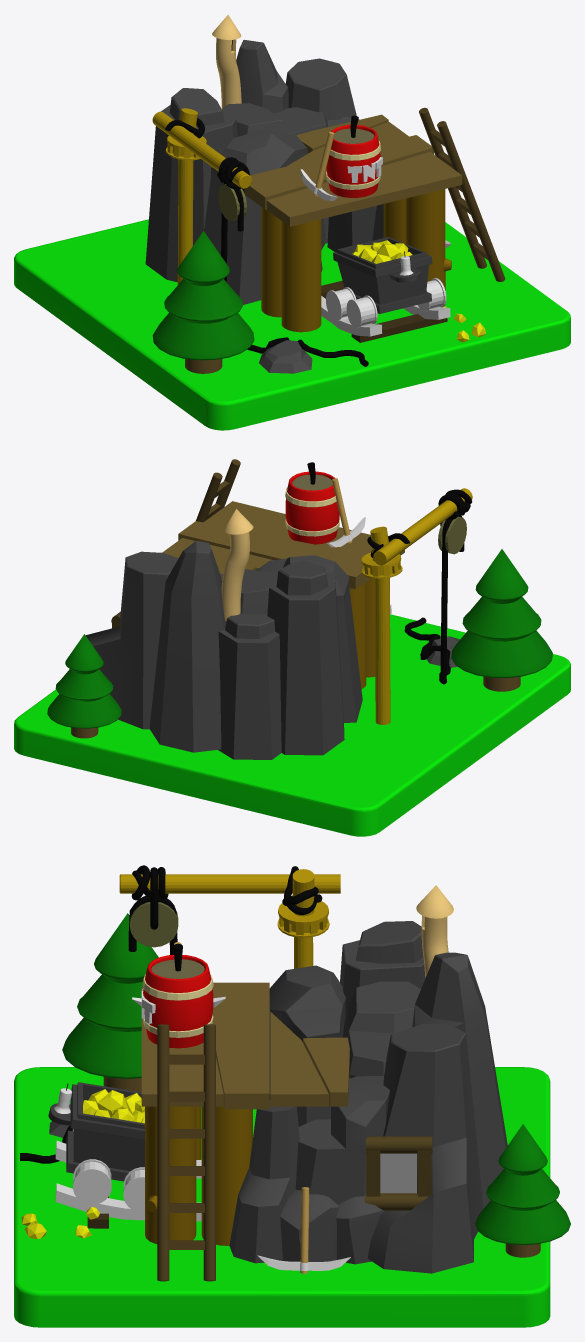
Rendered from Goldminemapped.fbx.
3 renders of one model, top to bottom at view 1: azimuth 30°, elevation 25°; view 2: azimuth 150°, elevation 25°; view 3: azimuth 270°, elevation 25°, orthographic. The views are drawn at different scales.
Visible parts, largest first — view 1: Base, Woodtop, polySurface4, Rocks3, Rock1, Log2, polySurface25, Cranepole1, Rocks2, Ladder, polySurface1, Rocks5 (+16 smaller); view 2: Base, Rocks5, Rocks3, Rocks6, Rocks2, polySurface4, Woodtop, Cranepole1, polySurface6, Rock1, polySurface36, polySurface20 (+9 smaller); view 3: Base, Rocks2, Woodtop, Ladder, polySurface4, Rocks5, Rocks7, Rocks4, polySurface6, Cranepole1, Rock1, polySurface25 (+20 smaller).
Part boxes in pixels (<box>): Base: <box>14,219,570,430</box>; Woodtop: <box>244,114,462,226</box>; polySurface4: <box>152,231,254,360</box>; Rocks3: <box>145,88,237,282</box>; Rock1: <box>204,131,322,304</box>; Log2: <box>281,219,321,332</box>; polySurface25: <box>333,237,432,313</box>; Cranepole1: <box>152,108,251,284</box>; Rocks2: <box>285,58,356,243</box>; Ladder: <box>419,107,505,281</box>; polySurface1: <box>405,189,451,290</box>; Rocks5: <box>236,39,325,249</box>; Base: <box>14,614,570,836</box>; Rocks5: <box>149,541,226,752</box>; Rocks3: <box>267,560,344,755</box>; Rocks6: <box>218,613,281,759</box>; Rocks2: <box>86,551,178,729</box>; polySurface4: <box>451,549,552,678</box>; Woodtop: <box>162,501,404,589</box>; Cranepole1: <box>361,488,472,724</box>; polySurface6: <box>47,634,121,728</box>; Rock1: <box>255,555,362,722</box>; polySurface36: <box>285,471,339,544</box>; polySurface20: <box>221,509,253,621</box>; Base: <box>14,1067,550,1327</box>; Rocks2: <box>367,1024,483,1273</box>; Woodtop: <box>141,982,349,1109</box>; Ladder: <box>157,1024,215,1281</box>; polySurface4: <box>62,913,158,1078</box>; Rocks5: <box>412,952,507,1208</box>; Rocks7: <box>295,1076,389,1204</box>; Rocks4: <box>229,1100,299,1263</box>; polySurface6: <box>475,1124,570,1244</box>; Cranepole1: <box>119,869,340,968</box>; Rock1: <box>269,965,345,1126</box>; polySurface25: <box>48,1082,144,1181</box>.
Size of the model in its own units: 14.16 by 9.21 by 14.23.
